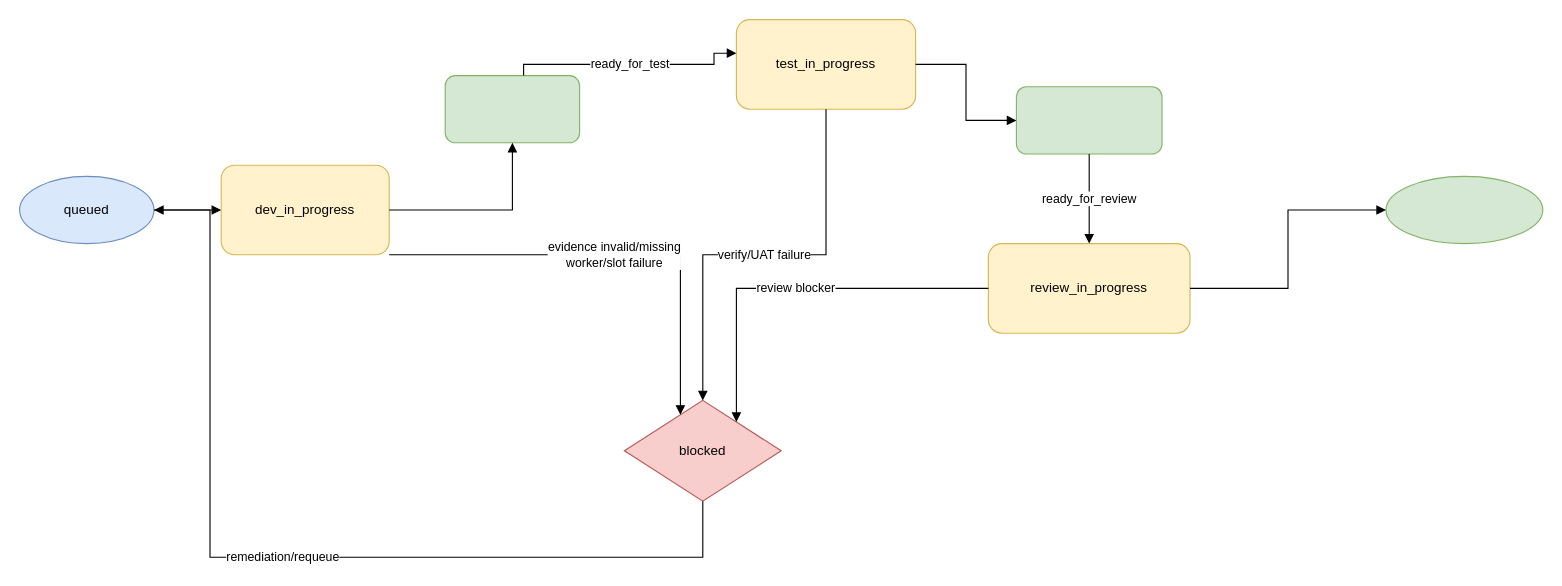
The diagram is 1562 pixels wide and 586 high, and some of its shapes have lost their labels. The shapes that lost their labels are listed below. From the top down, each one's centre as x and y in pixels, then its label:
pixel 512 108: dev_done
pixel 1088 120: test_done
pixel 1464 209: review_done
